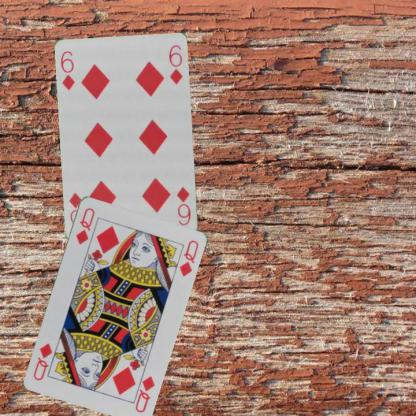6d: (58, 48, 76, 92), (174, 184, 192, 227)
Qd: (130, 368, 156, 414), (73, 204, 96, 245)
